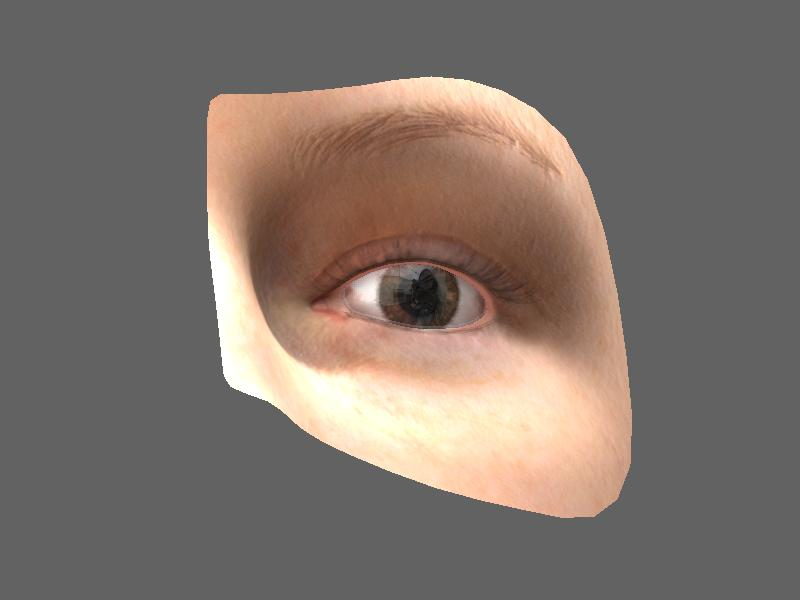iris: (375, 259, 466, 331)
